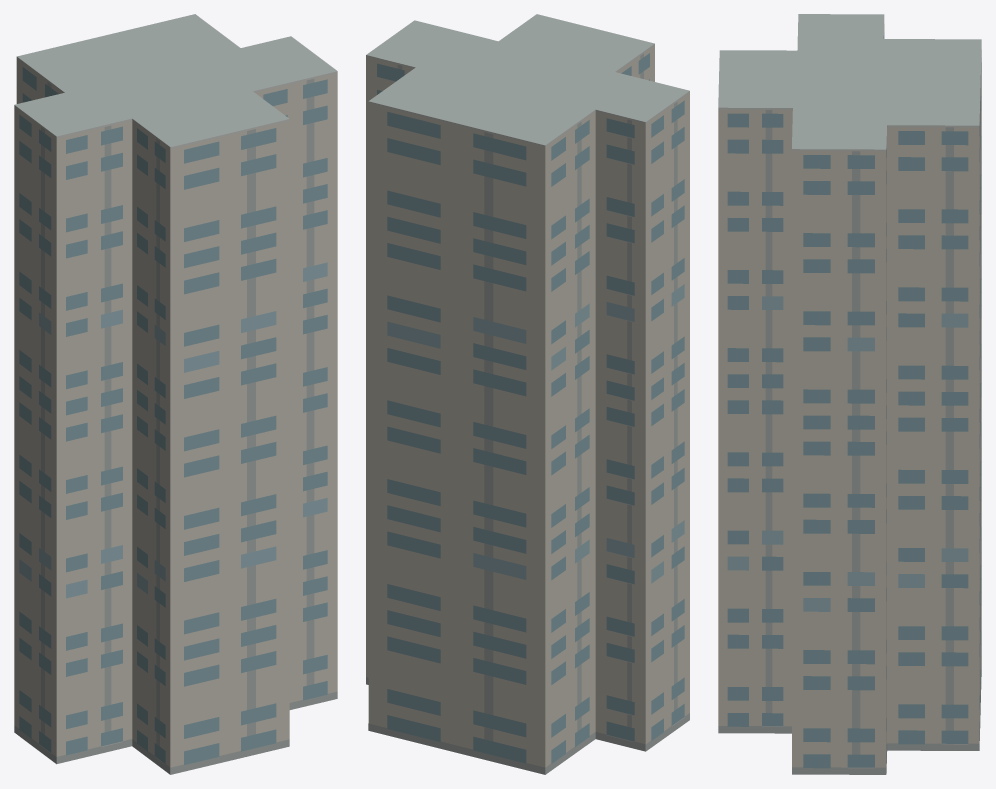
The model's file is residential-d37ee98b-6ddc-4350-b886-7cb20bfd9ac4.glb.
The picture shows the model from 3 angles, left to right: view 1: azimuth 30°, elevation 25°; view 2: azimuth 150°, elevation 25°; view 3: azimuth 270°, elevation 25°; orthographic projection.
Visible parts, largest first — view 1: residential-d37ee98b-6ddc-4350-b886-7cb20bfd9ac4.tmp; view 2: residential-d37ee98b-6ddc-4350-b886-7cb20bfd9ac4.tmp; view 3: residential-d37ee98b-6ddc-4350-b886-7cb20bfd9ac4.tmp.
Part boxes in pixels (box(x1,y1,x2,y2)): residential-d37ee98b-6ddc-4350-b886-7cb20bfd9ac4.tmp: box(14, 14, 337, 774); residential-d37ee98b-6ddc-4350-b886-7cb20bfd9ac4.tmp: box(366, 14, 689, 774); residential-d37ee98b-6ddc-4350-b886-7cb20bfd9ac4.tmp: box(718, 14, 981, 774).
Bounding box in the file's own units: 36.73 × 79 × 30.18.
